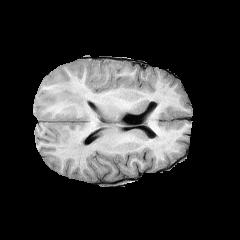glioma: (46, 73, 95, 161)
